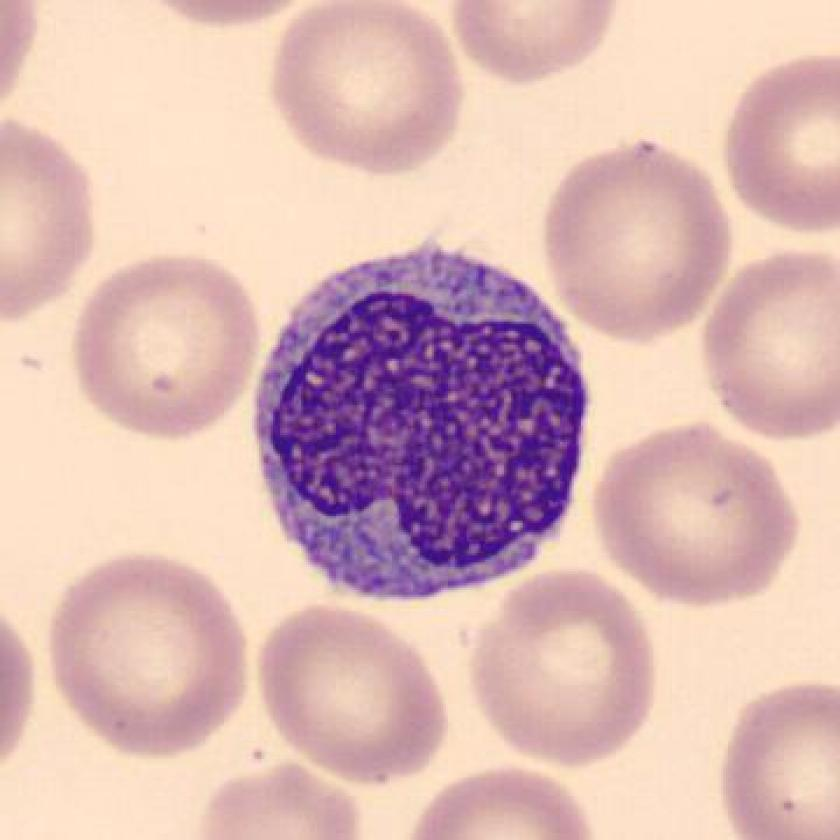monocyte: (230, 219, 615, 621)
